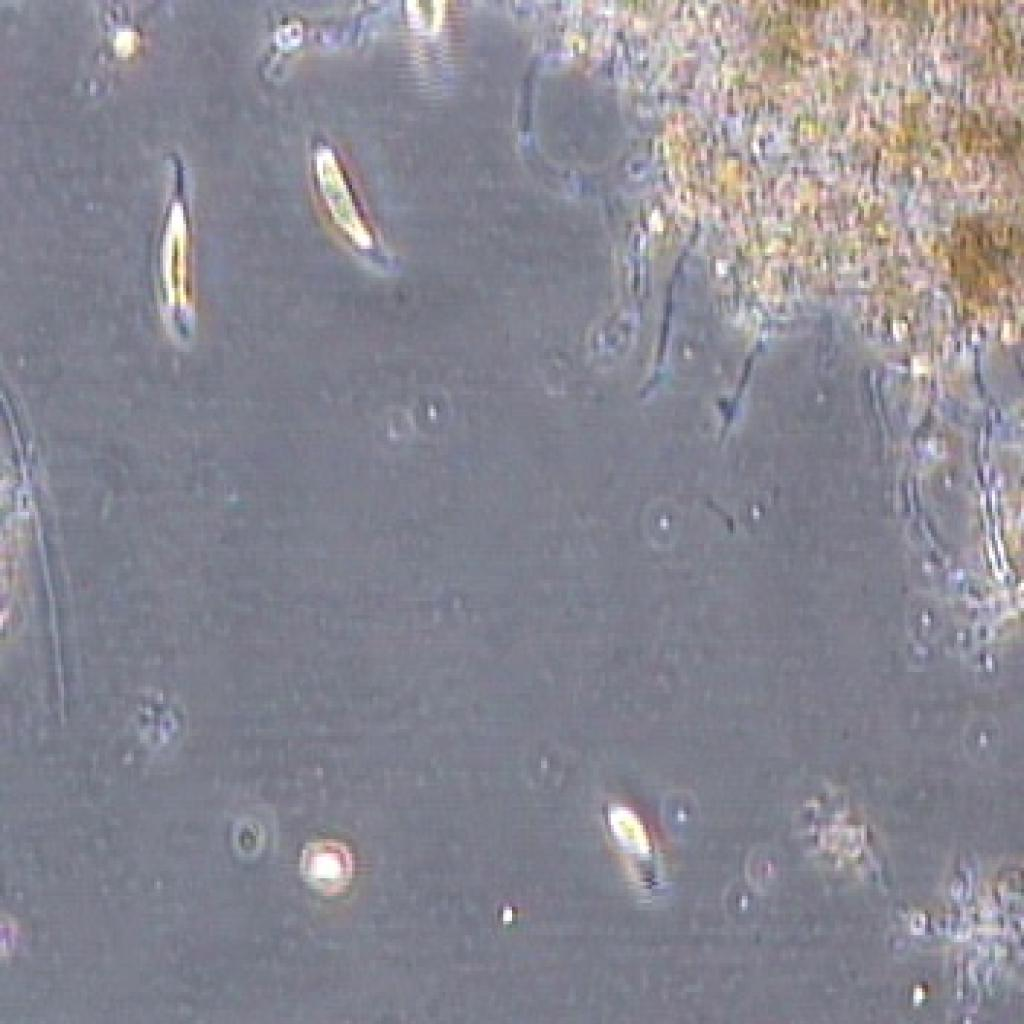Pristina: (126, 144, 226, 354), (294, 116, 404, 290), (578, 786, 676, 910)
